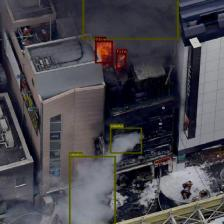fire: (95, 41, 112, 63), (116, 53, 126, 68)
smoke: (82, 0, 178, 39), (69, 156, 115, 224), (110, 127, 141, 153)
